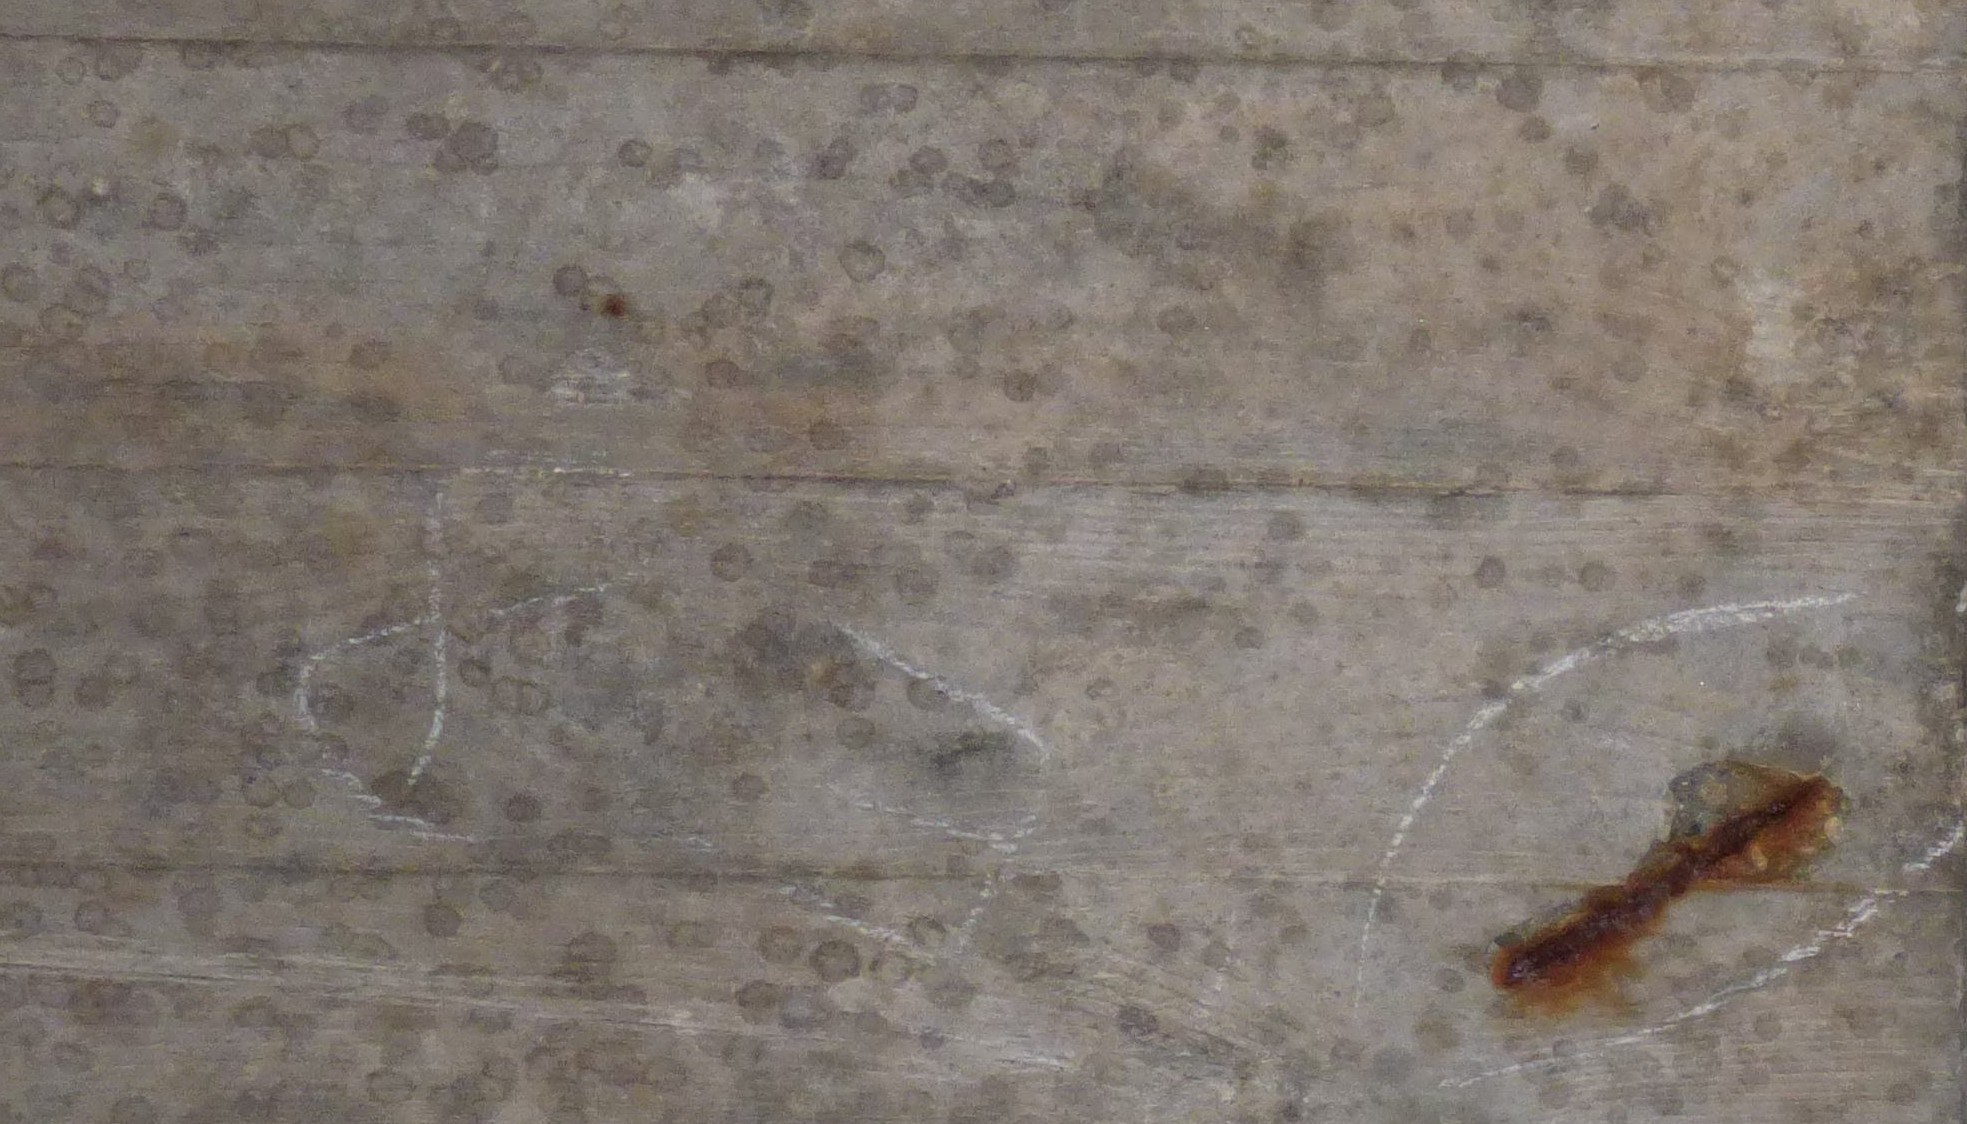Exposed reinforcement: (1512, 780, 1822, 984)
Spalling: (1668, 761, 1851, 884)
